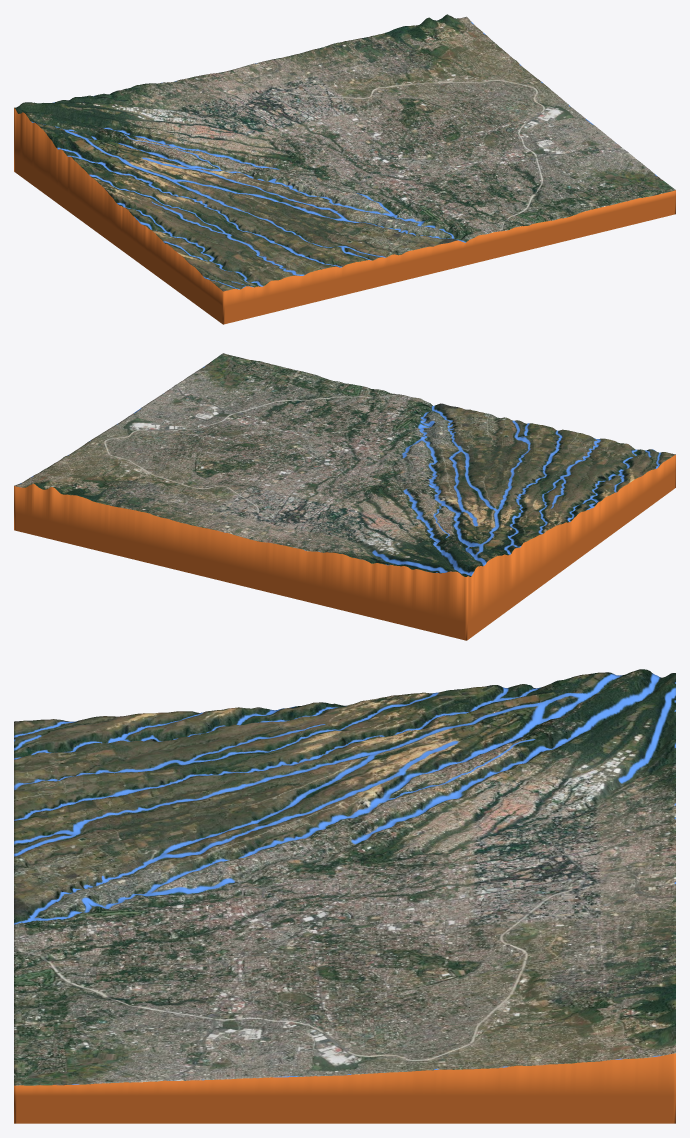
File: MapaPintado.fbx
3 renders of one model, top to bottom at view 1: azimuth 30°, elevation 25°; view 2: azimuth 150°, elevation 25°; view 3: azimuth 270°, elevation 25°, orthographic. The views are drawn at different scales.
Parts seen in each view (by area): view 1: EXPORT_GOOGLE_SAT_WM; view 2: EXPORT_GOOGLE_SAT_WM; view 3: EXPORT_GOOGLE_SAT_WM.
Part boxes in pixels (x1,y1,x2,y2): EXPORT_GOOGLE_SAT_WM: (14,14,675,324); EXPORT_GOOGLE_SAT_WM: (14,353,675,640); EXPORT_GOOGLE_SAT_WM: (14,669,675,1123).
Size of the model in its own units: 1222993 by 171594 by 978394.
Materials: 2 (1 with a texture image).
